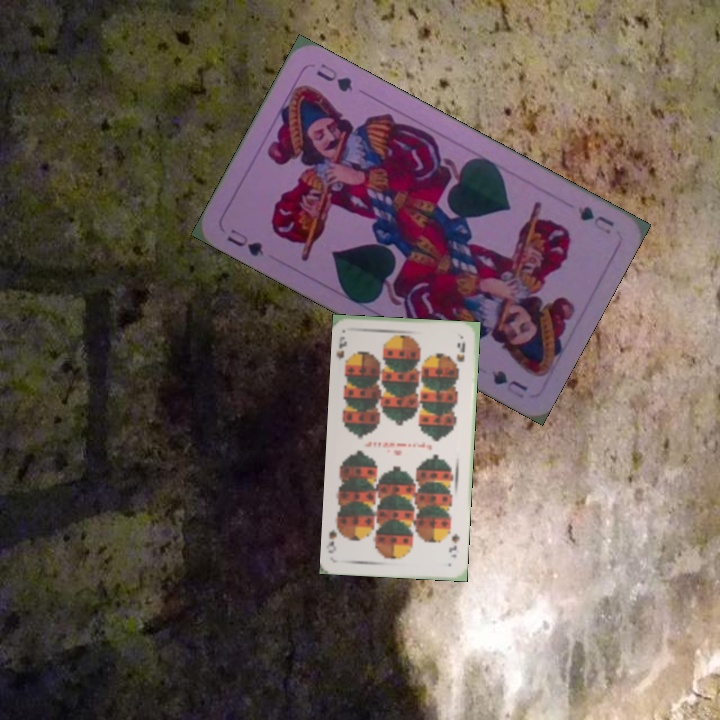GU: (222, 225, 267, 260), (573, 202, 617, 237)
S9: (333, 332, 353, 366), (445, 530, 462, 560)
